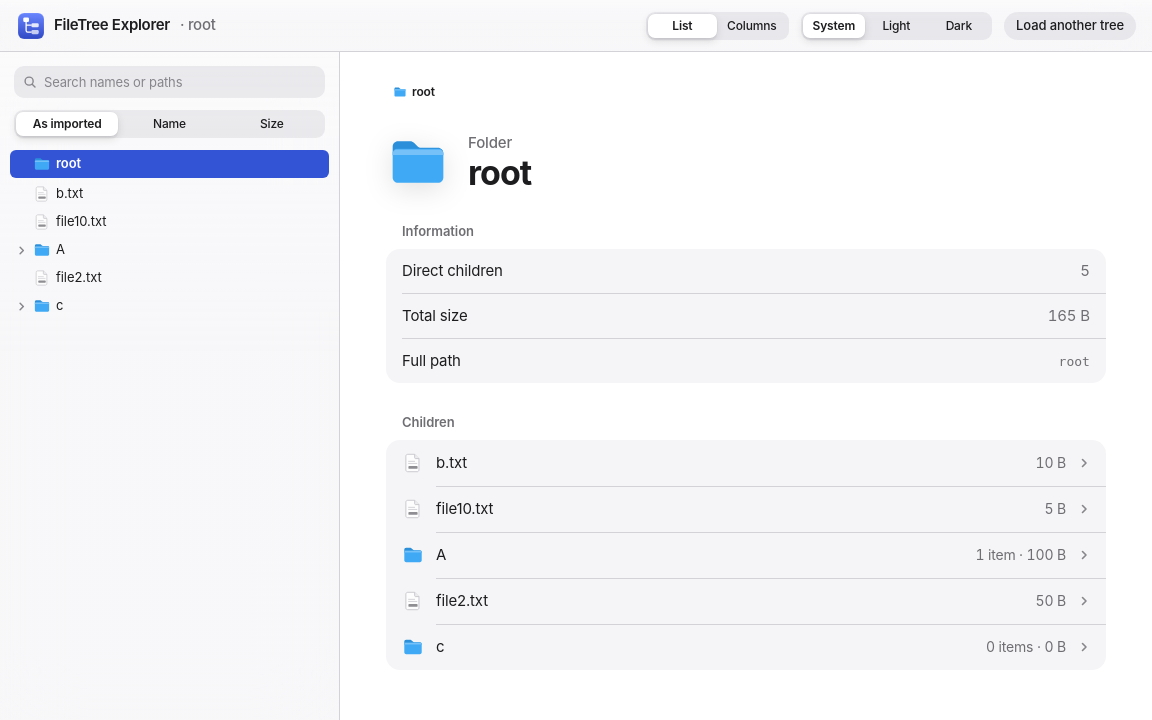
preferences › sorts the tree and folder children by name
Click the radio button labelled "Name" at point(169, 124), box [118,112,221,136]
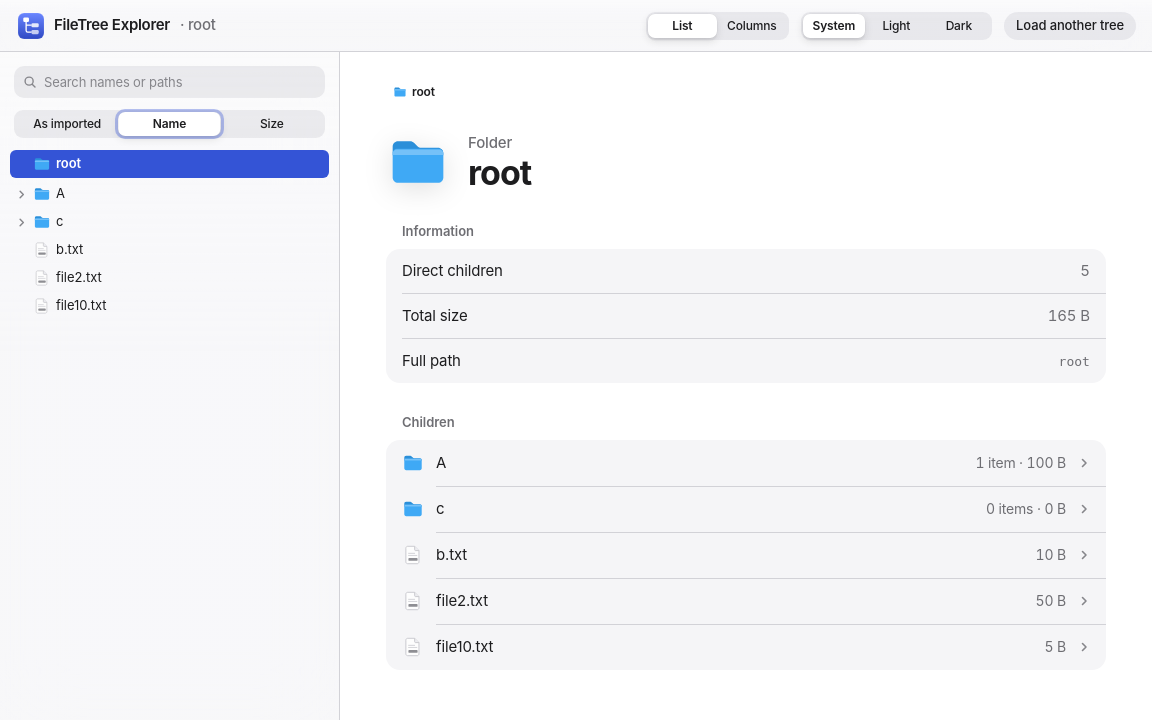
Expected: the links read "A", "c", "b.txt", "file2.txt", "file10.txt", in this order, [436,453,446,472]; [436,499,444,518]; [436,545,467,564]; [436,591,488,610]; [436,637,493,656]
